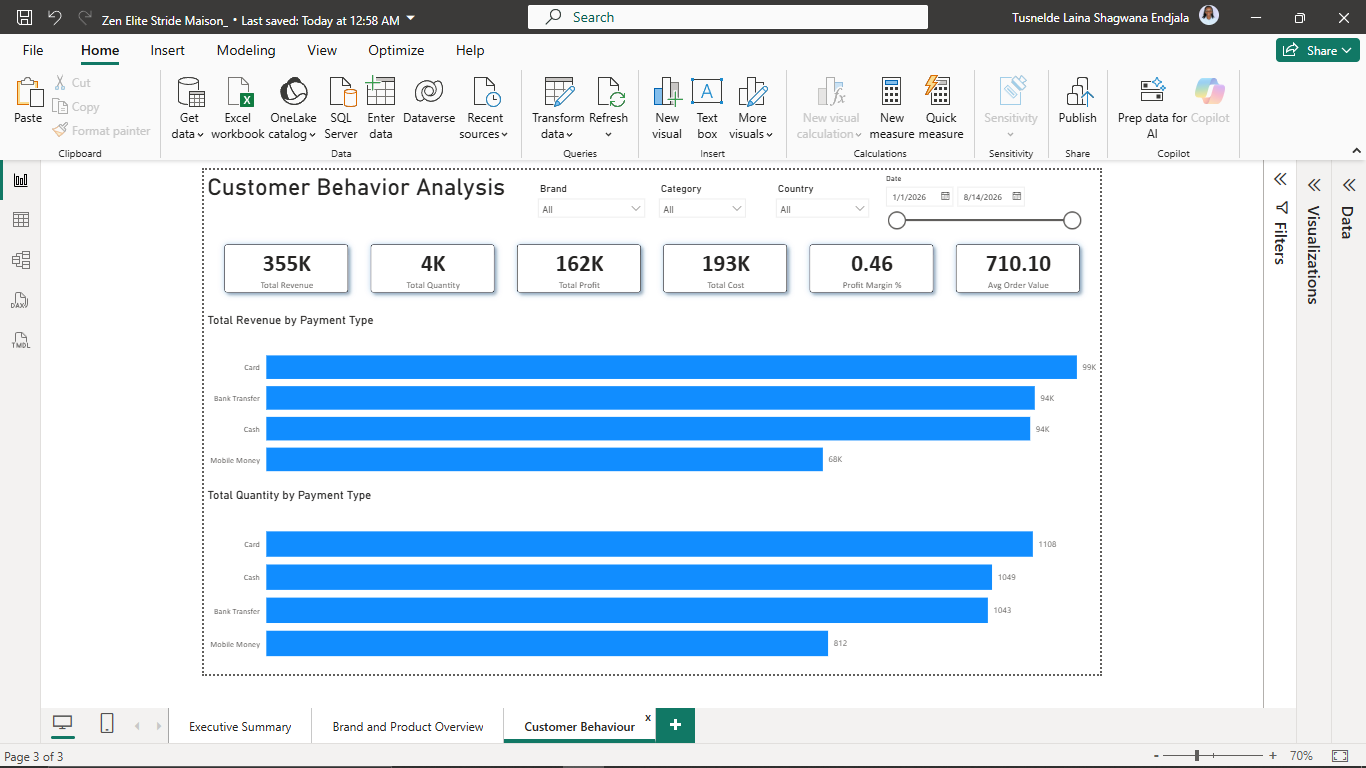

What the dashboard file says about the page in this screenshot:
{"tool":"powerbi","page":{"name":"Customer Behaviour","canvas":[1280,720],"ordinal":2},"visuals":[{"type":"cardVisual","fields":{"Data":["Measure Table.Total Revenue","Measure Table.Total Quantity","Measure Table.Total Profit","Measure Table.Total Cost","Measure Table.Profit Margin %","Measure Table.Avg Order Value"]},"box":[0,77.1,1280,127.1],"z":0},{"type":"textbox","box":[0,0,467.1,62.9],"z":1},{"type":"slicer","fields":{"Values":["Shoe Sales.Date"]},"box":[961.4,0,300,88.6],"z":2},{"type":"slicer","fields":{"Values":["Shoe Sales.Brand"]},"box":[467.1,12.9,173,63.8],"z":3},{"type":"slicer","fields":{"Values":["Shoe Sales.Category"]},"box":[640,12.9,144.5,63.8],"z":4},{"type":"slicer","fields":{"Values":["Shoe Sales.Country"]},"box":[807.1,12.9,152.9,63.8],"z":5},{"type":"barChart","fields":{"Category":["Shoe Sales.Payment Type"],"Y":["Measure Table.Total Revenue"]},"box":[0,204.3,1280,250],"z":6},{"type":"barChart","fields":{"Category":["Shoe Sales.Payment Type"],"Y":["Measure Table.Total Quantity"]},"box":[0,454.3,1280,265.7],"z":7}]}

Visuals, with their boxes on the page's 1280x720 design canvas (x1, y1, x2, y2). These are canvas units, not pixel positions in the 1366x768 screenshot, which may show the page scaled, cropped or inside an application window:
cardVisual - Measure Table.Total Revenue x Measure Table.Total Quantity: {"left": 0, "top": 77, "right": 1280, "bottom": 204}
textbox: {"left": 0, "top": 0, "right": 467, "bottom": 63}
slicer - Shoe Sales.Date: {"left": 961, "top": 0, "right": 1261, "bottom": 89}
slicer - Shoe Sales.Brand: {"left": 467, "top": 13, "right": 640, "bottom": 77}
slicer - Shoe Sales.Category: {"left": 640, "top": 13, "right": 784, "bottom": 77}
slicer - Shoe Sales.Country: {"left": 807, "top": 13, "right": 960, "bottom": 77}
barChart - Shoe Sales.Payment Type x Measure Table.Total Revenue: {"left": 0, "top": 204, "right": 1280, "bottom": 454}
barChart - Shoe Sales.Payment Type x Measure Table.Total Quantity: {"left": 0, "top": 454, "right": 1280, "bottom": 720}
